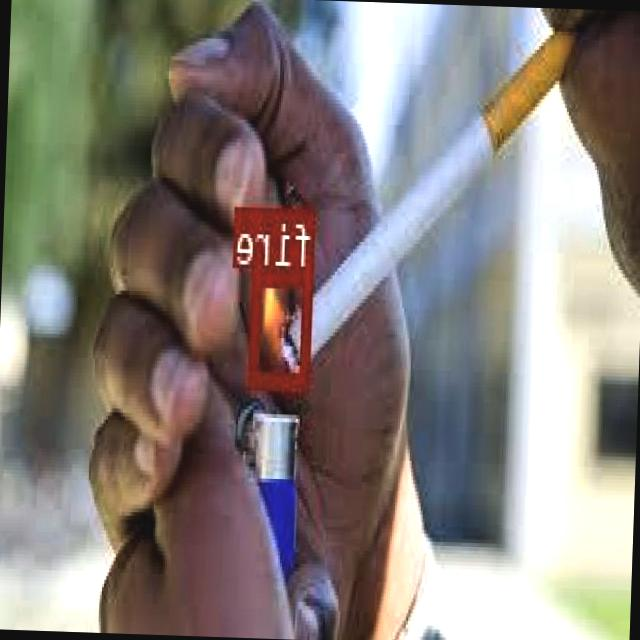fire: (251, 266, 314, 388)
